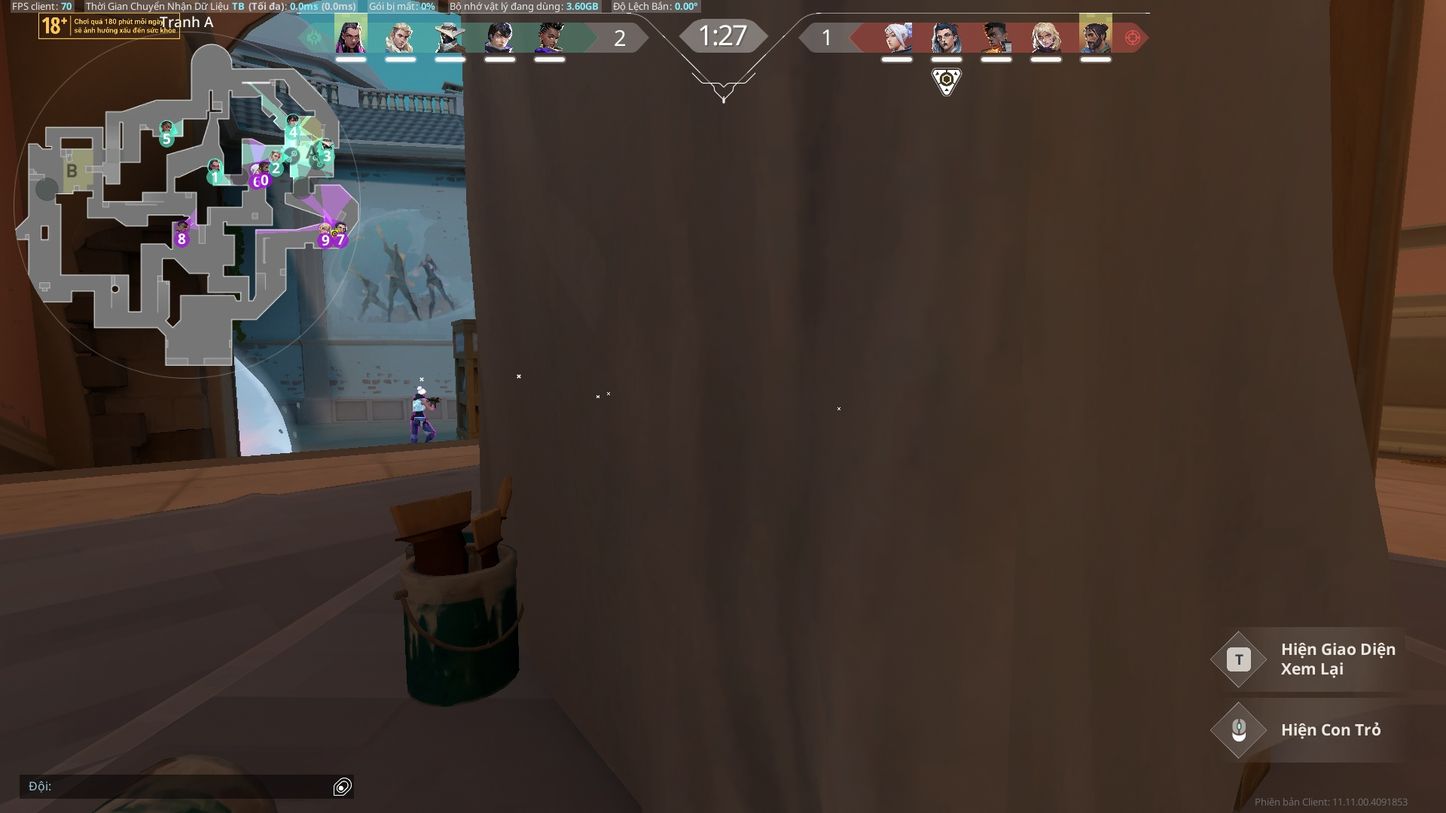body: (410, 394, 428, 416)
head: (417, 388, 427, 397)
